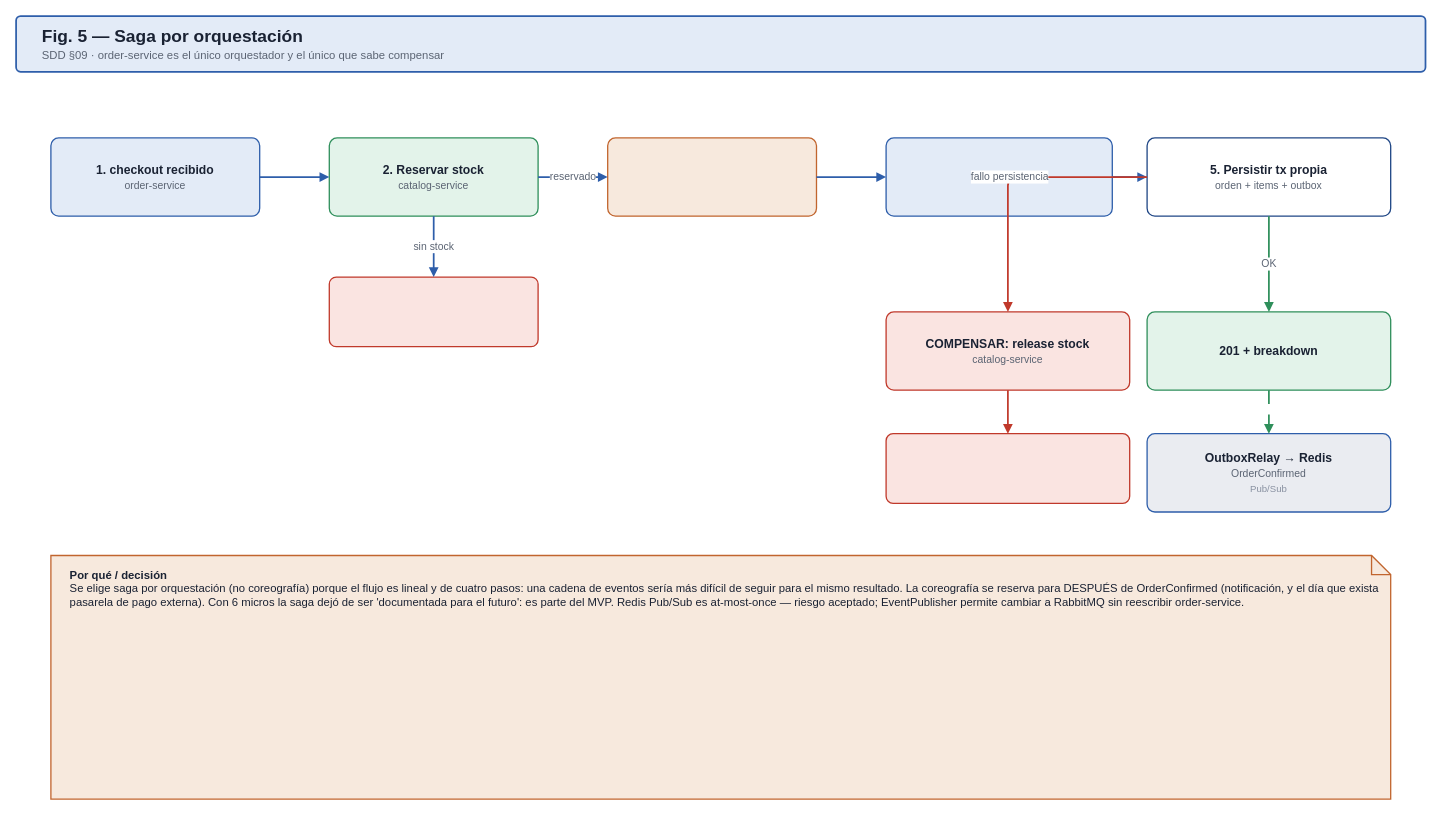
Some shapes in this 1441 by 814 pixel diagram are drawn without their labels. Here are the shapes that lost their labels. From the top down, the box of each, then its label:
(607, 137, 817, 216): 3. Resolver cupón coupon-service
(885, 137, 1113, 216): 4. Calcular + tope 35% discount-service
(328, 276, 538, 347): Abortar 409 nada persistido
(885, 433, 1130, 504): 500 — la orden no existe
